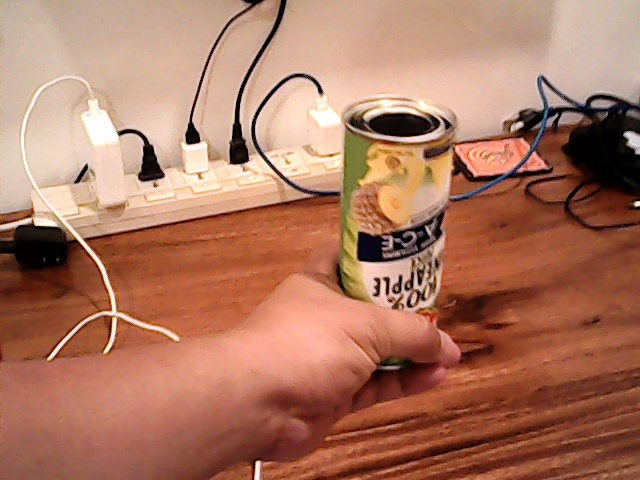Pine Juice: (321, 84, 471, 372)
